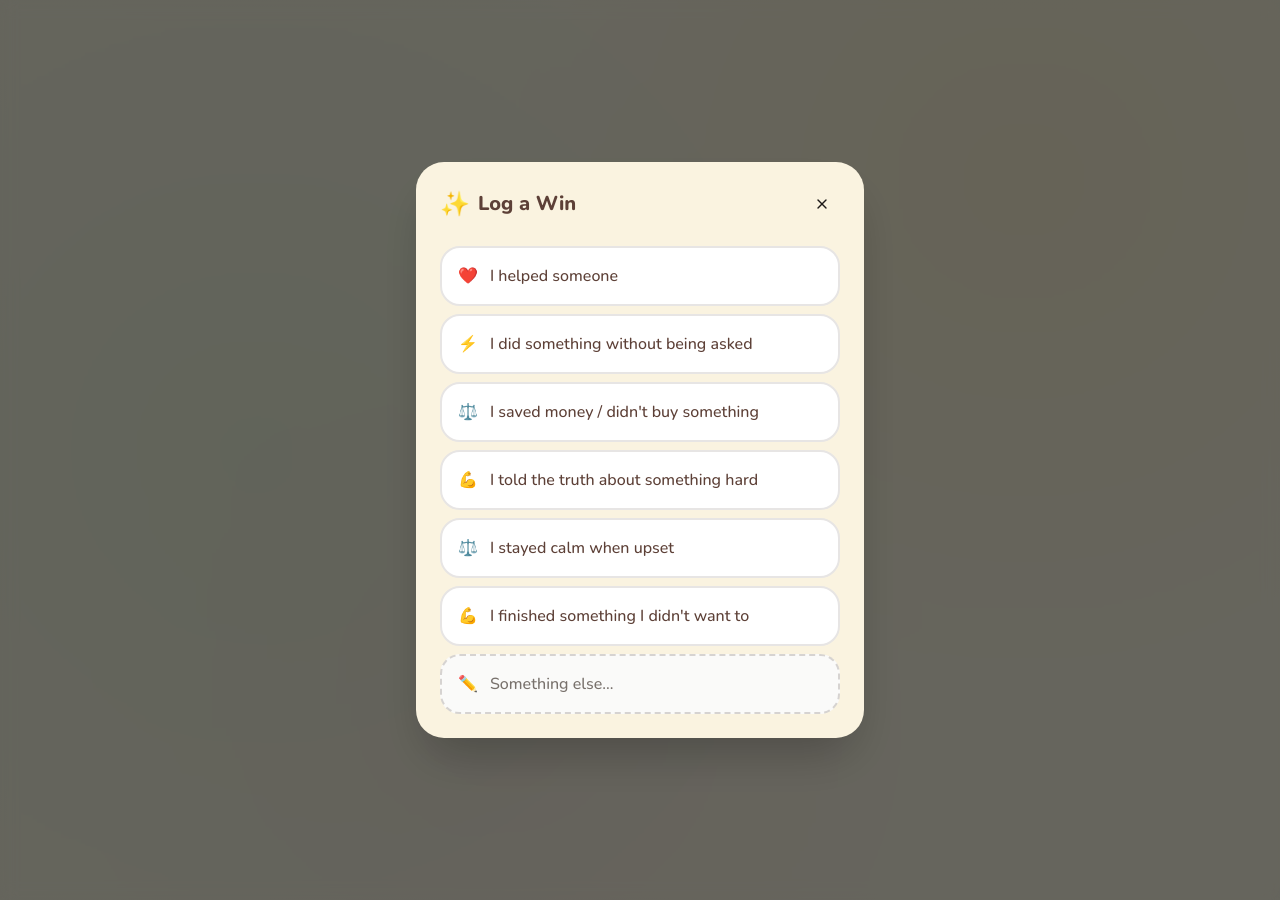
Test: SelfReportLog › Preset Selection › navigates to details screen when preset clicked
Click the text "I helped someone" at (554, 276), box [490,265,618,287]
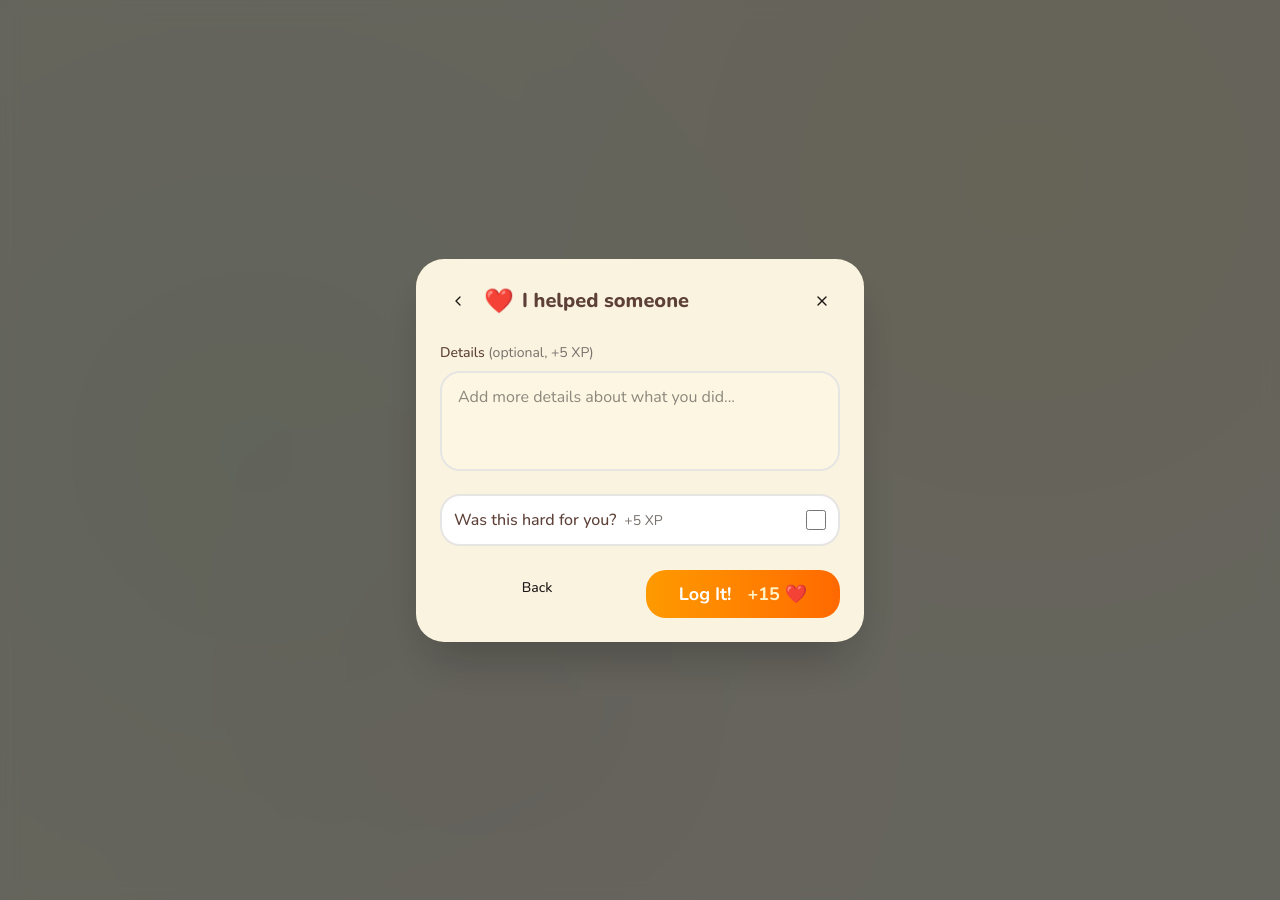
Expected: the heading "❤️ I helped someone" is shown, [484,284,689,316]
Expected: the text "Was this hard for you?" is shown, [454,508,616,530]
Expected: the text box with placeholder "Add more details about what you did..." is shown, [440,370,840,470]
